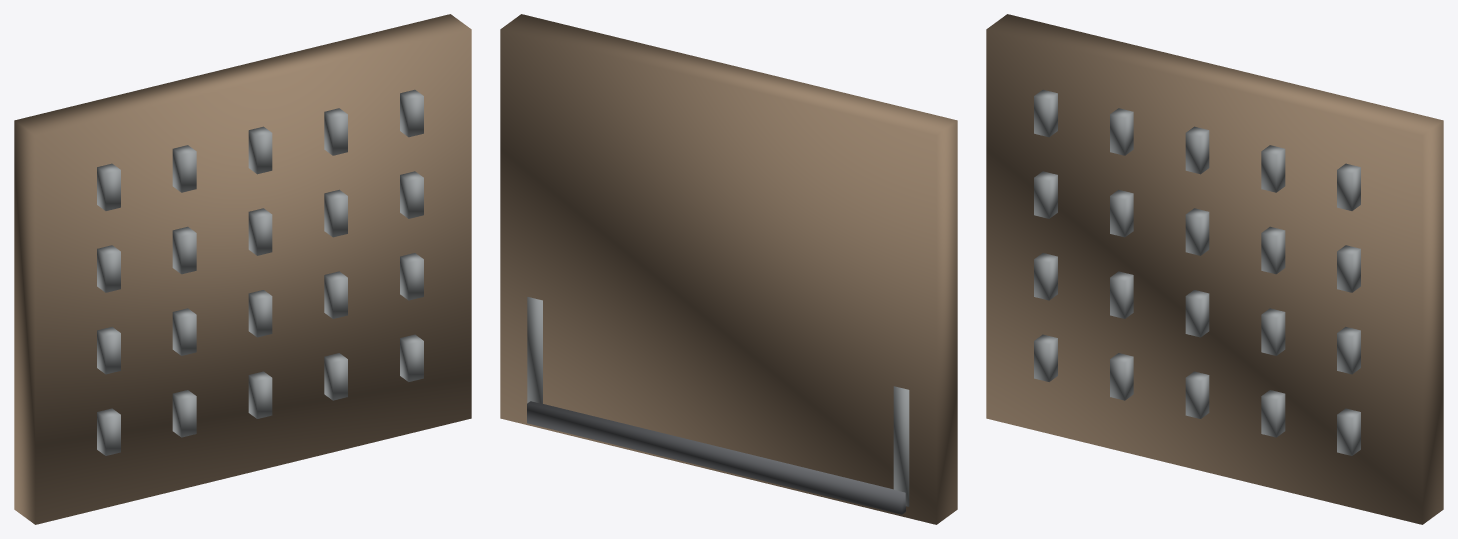
The model's file is key_cubby_rack__reinforced.glb.
3 views of the same model, side by side, from view 1: azimuth 30°, elevation 25°; view 2: azimuth 150°, elevation 25°; view 3: azimuth 330°, elevation 25° (orthographic).
Visible parts, largest first — view 1: world; view 2: world; view 3: world.
Part boxes in pixels (bbox=[...]): world: bbox=[14, 14, 471, 524]; world: bbox=[500, 14, 957, 524]; world: bbox=[986, 14, 1443, 524].
Size of the model in its own units: 0.7416 by 0.6324 by 0.1069.
